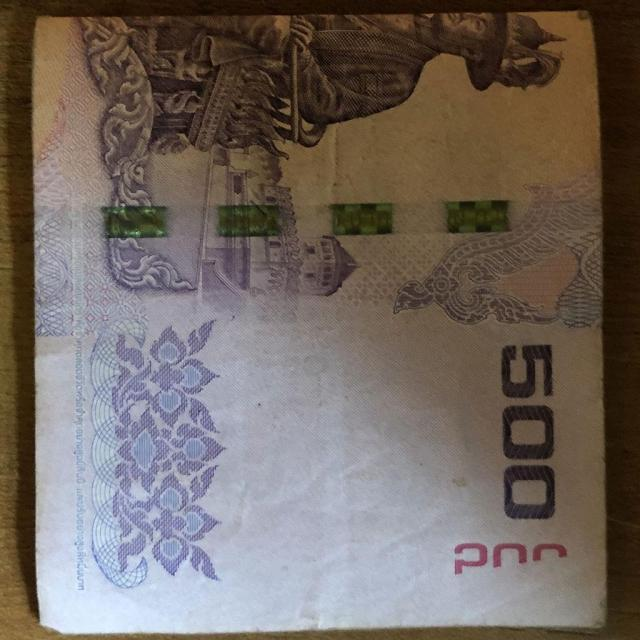THAI500: (33, 12, 606, 633)
